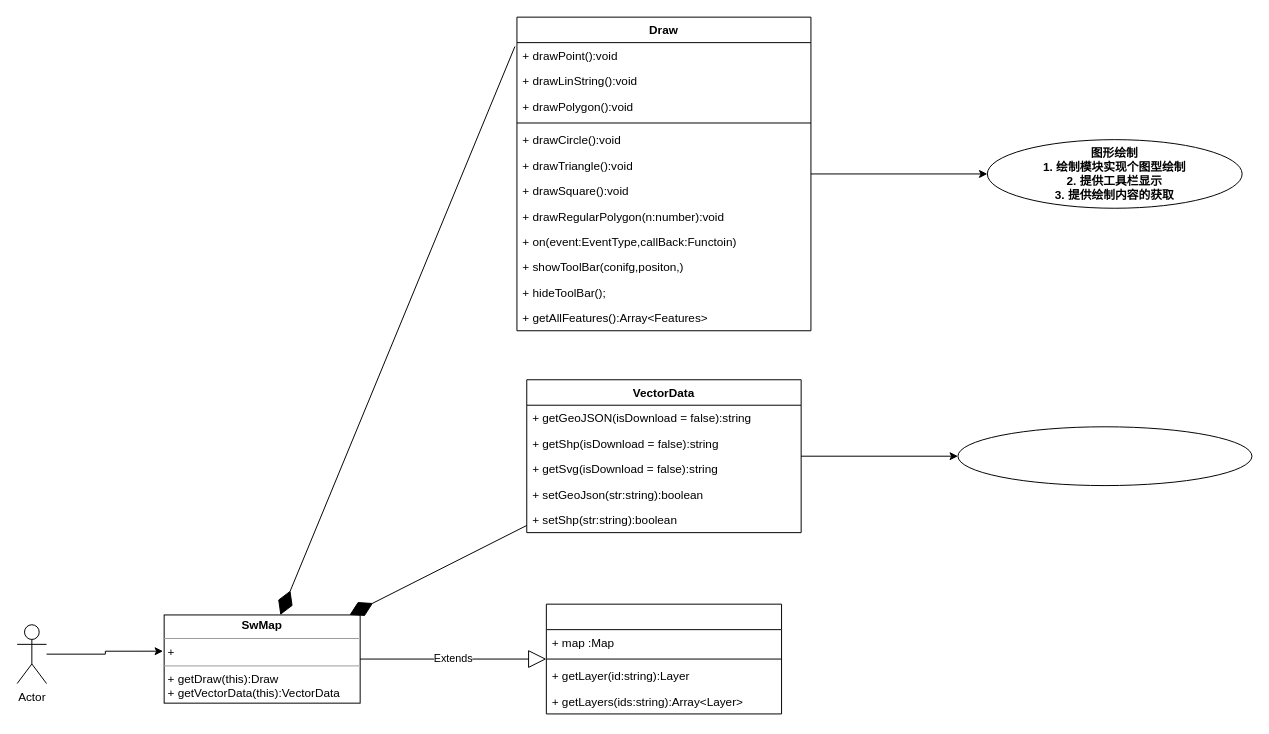
The diagram is 1269 pixels wide and 734 high, and some of its shapes have lost their labels. The shapes that lost their labels are listed below. From the top down, each one's box as (x1, y1, x2, y2) in pixels, then its label:
(957, 426, 1252, 486): 矢量数据处理 1.矢量数据获取与下载 2.加载与导出矢量数据
(545, 603, 782, 714): BaseMap
